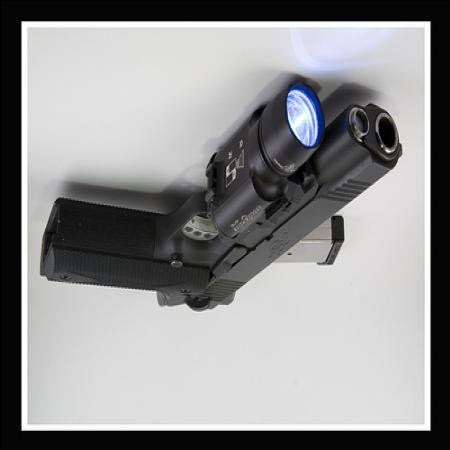Pistol: (38, 77, 405, 314)
